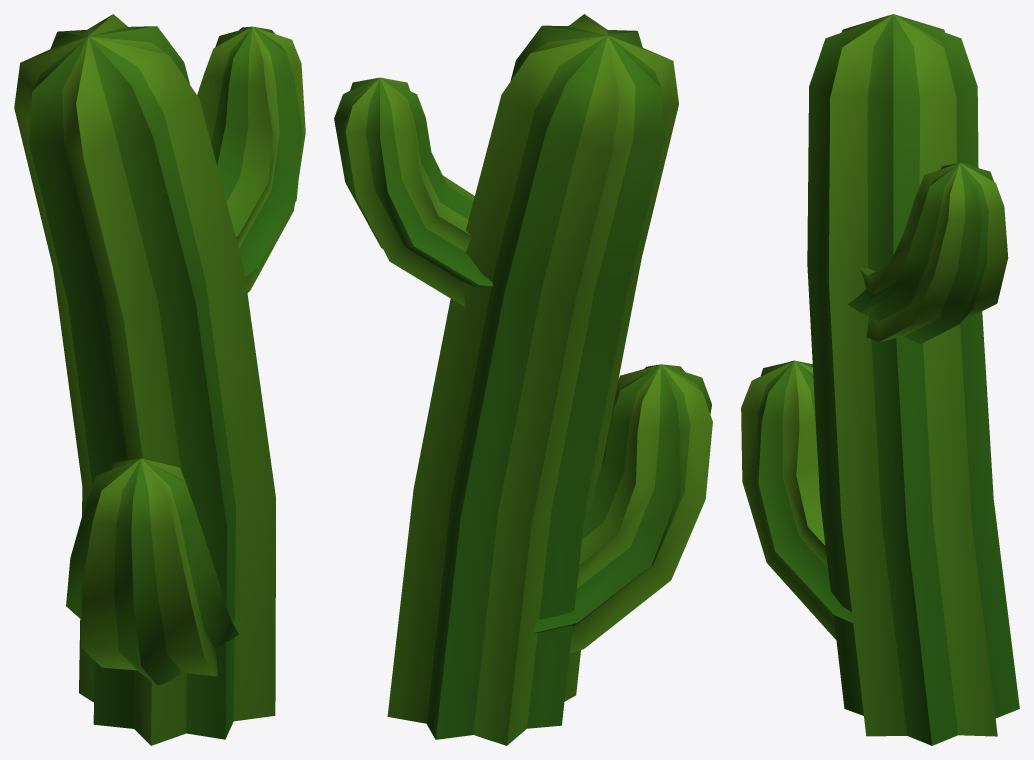
File: Cactus 02.FBX
3 renders of one model, left to right at view 1: azimuth 30°, elevation 25°; view 2: azimuth 150°, elevation 25°; view 3: azimuth 270°, elevation 25°, orthographic. The views are drawn at different scales.
Visible parts, largest first — view 1: Cactus 02; view 2: Cactus 02; view 3: Cactus 02.
Part boxes in pixels (box(x1,y1,x2,y2)): Cactus 02: box(14, 14, 305, 745); Cactus 02: box(334, 14, 712, 745); Cactus 02: box(741, 14, 1019, 745).
Bounding box in the file's own units: 109 × 244 × 95.46.
Materials: 1 (1 with a texture image).
